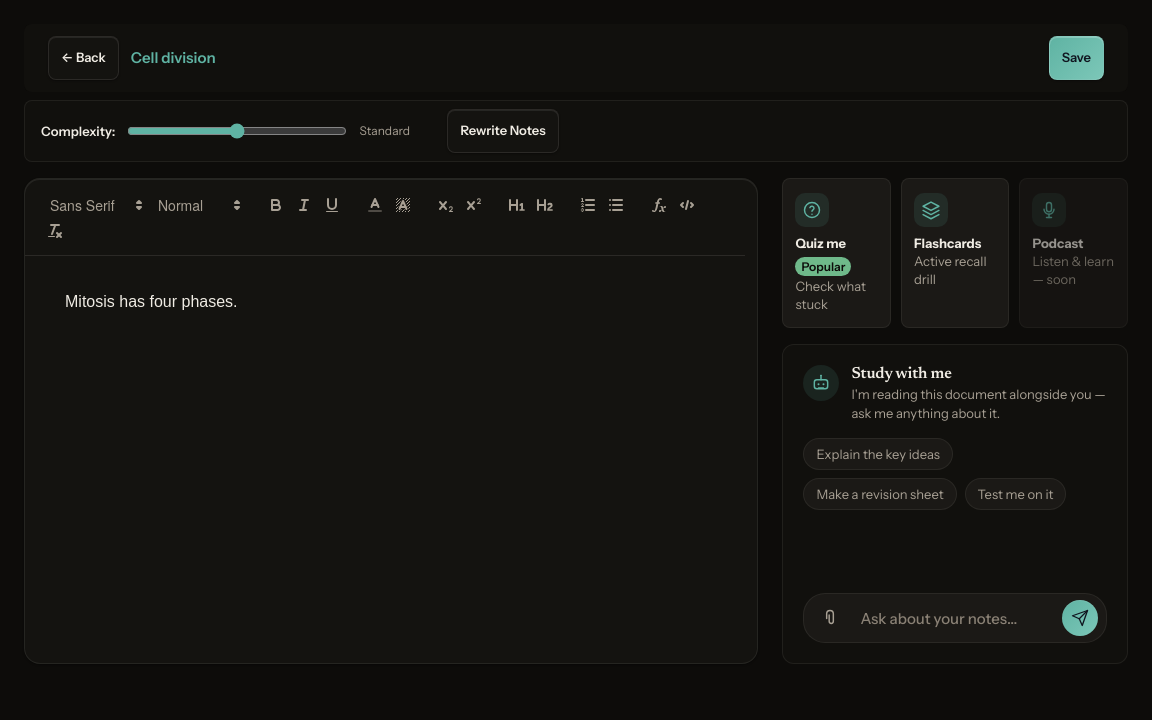
Test: NotesAiSidebar › answers with the open document as context
Expected: the text box labelled "Mitosis has four phases." is shown, [65,293,238,310]
Step 1. Type "What are the phases?" into the text box named "Ask about this document" → (955, 618), box [856,601,1054,636]
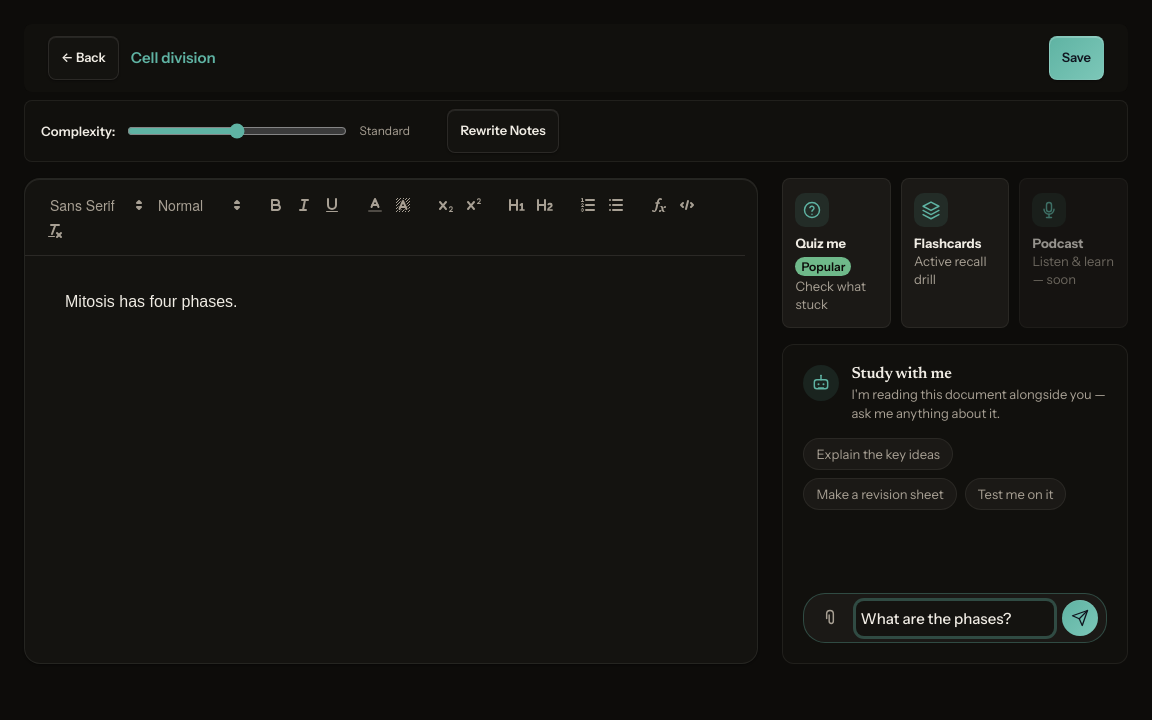
Step 2. Click the button named "Send" → (1080, 618), box [1062,600,1098,636]
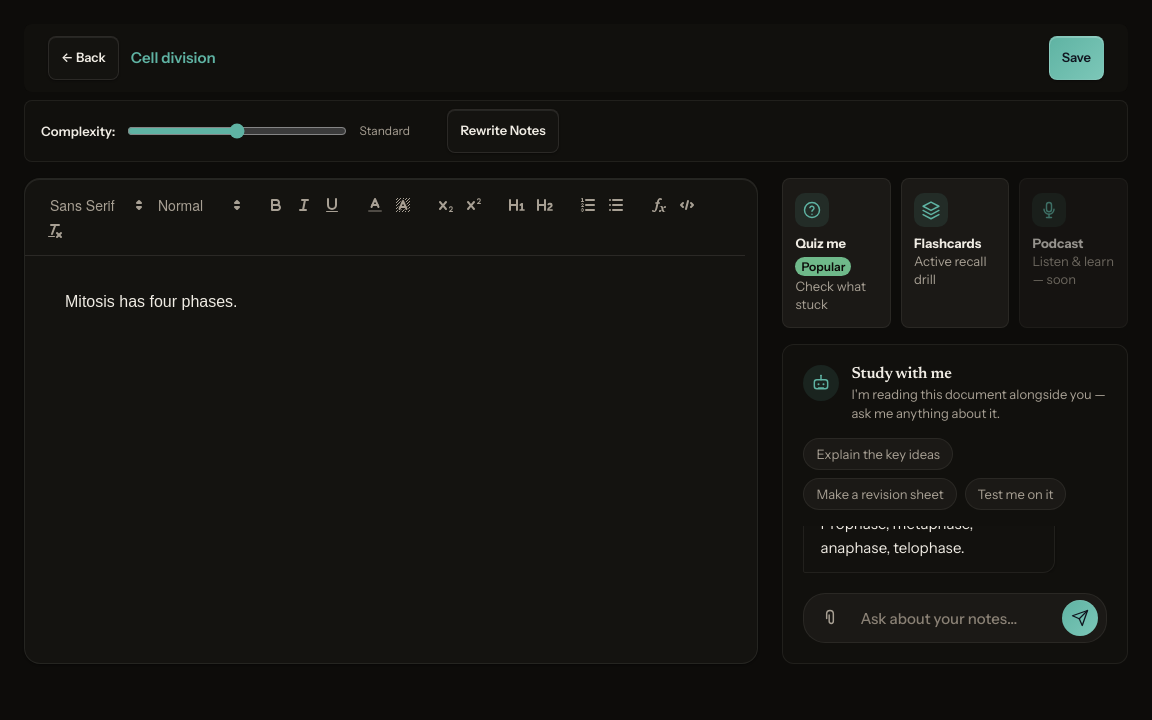
Expected: the text "Prophase, metaphase, anaphase, telophase." is shown, [820,526,973,557]
